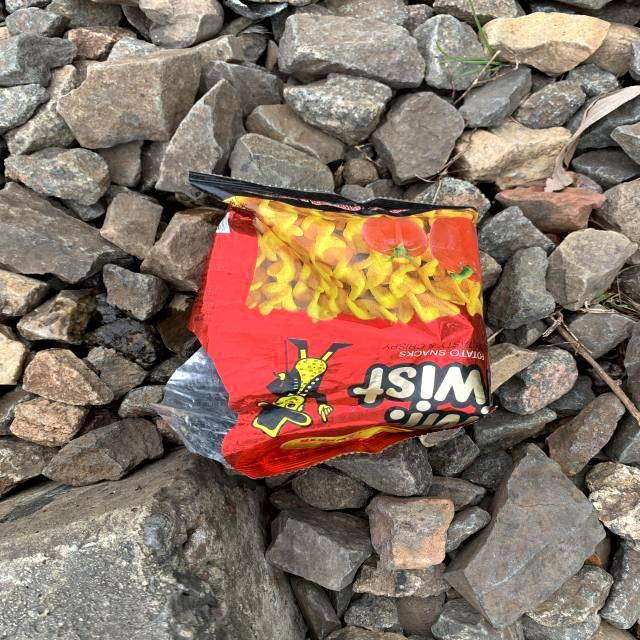packet: (161, 168, 496, 476)
